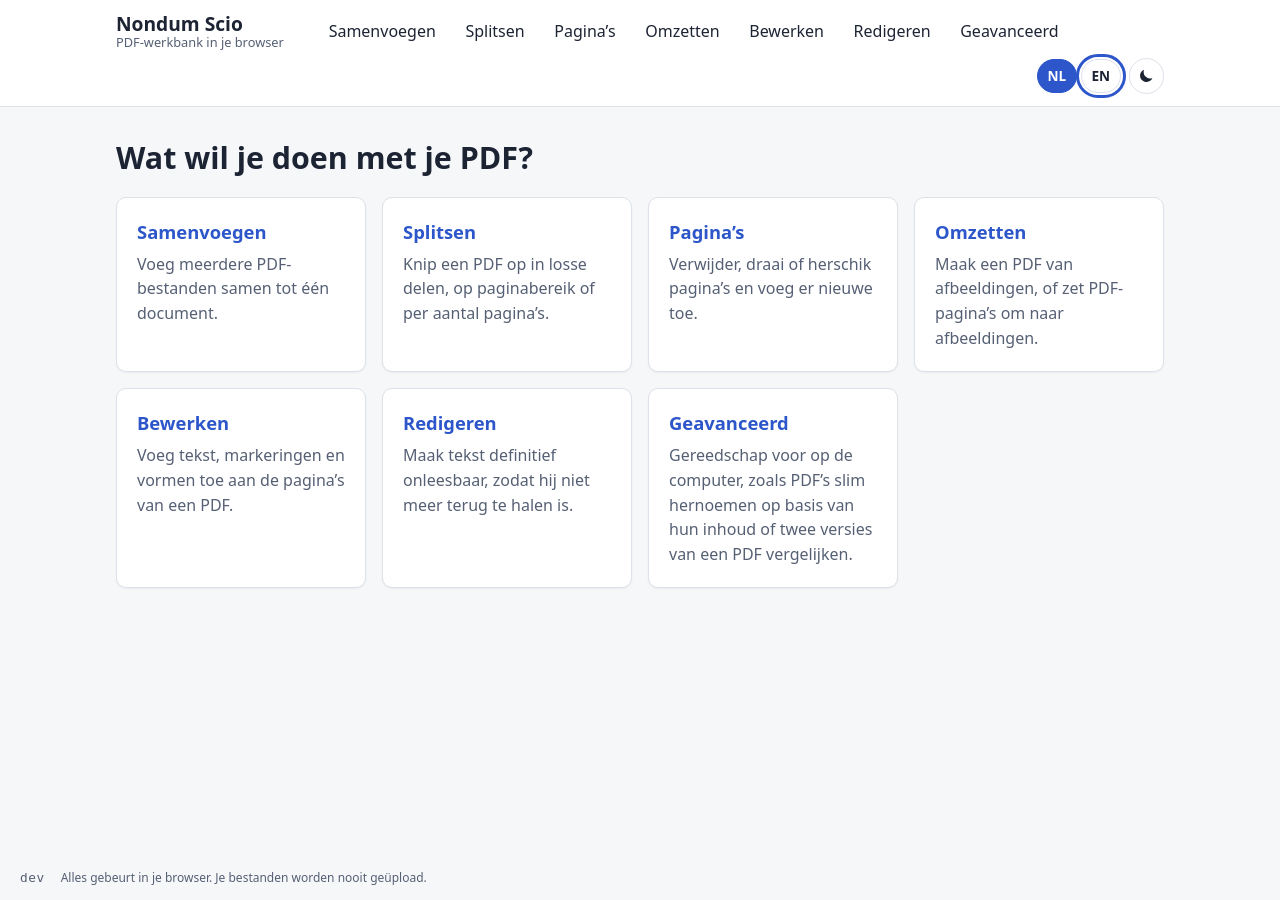
taalkeuze › blijft op de plek: wisselen van taal verplaatst de focus niet
This screenshot has width=1280, height=900.
Click the button with aria-label "English" at {"x": 1101, "y": 76}, box [1081,59,1121,93]
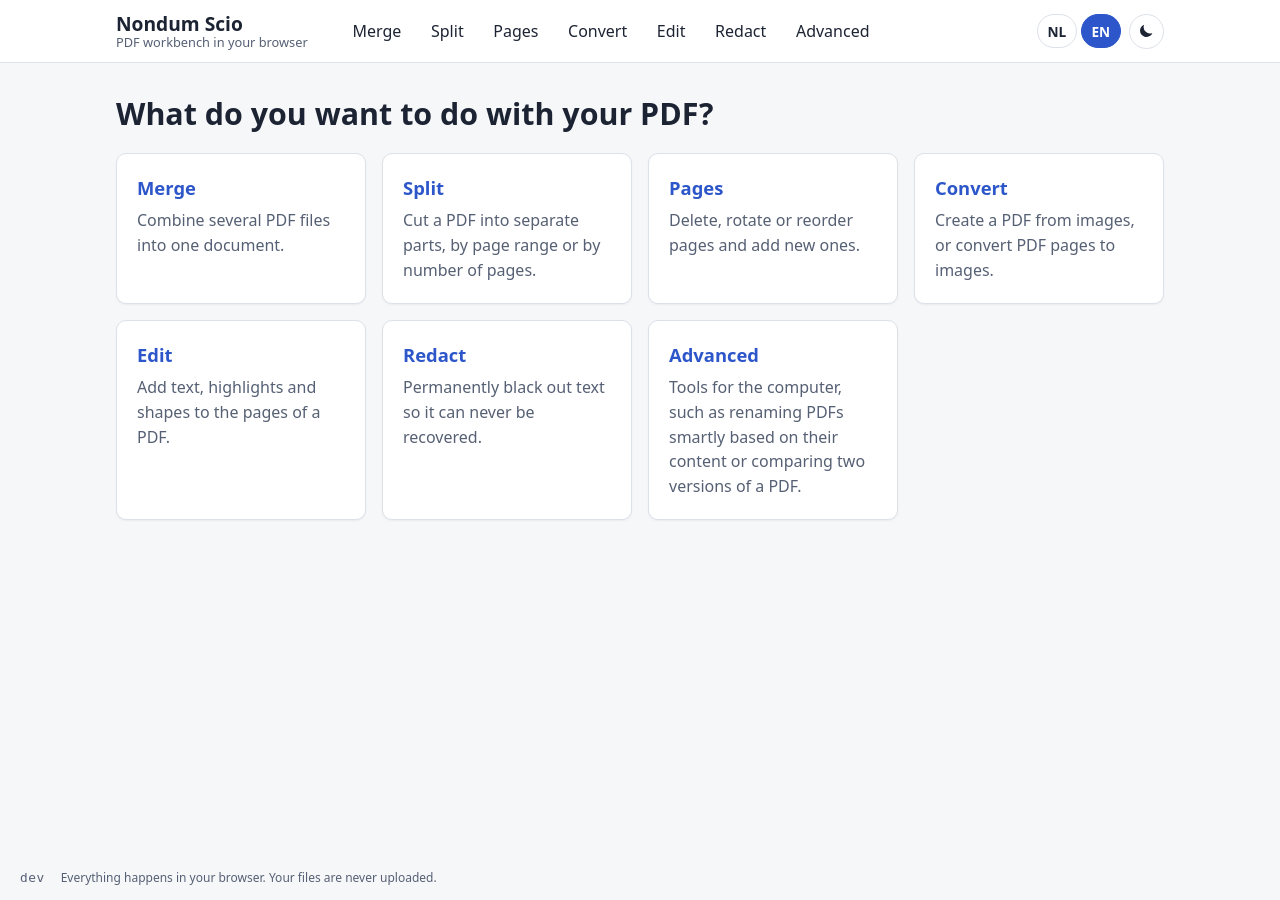
Result: the heading "What do you want to do with your PDF?" is shown at [116,93,714,134]
